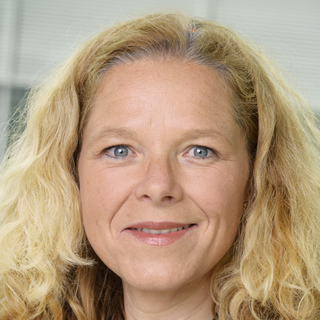eye: (175, 143, 224, 164), (98, 139, 141, 161)
